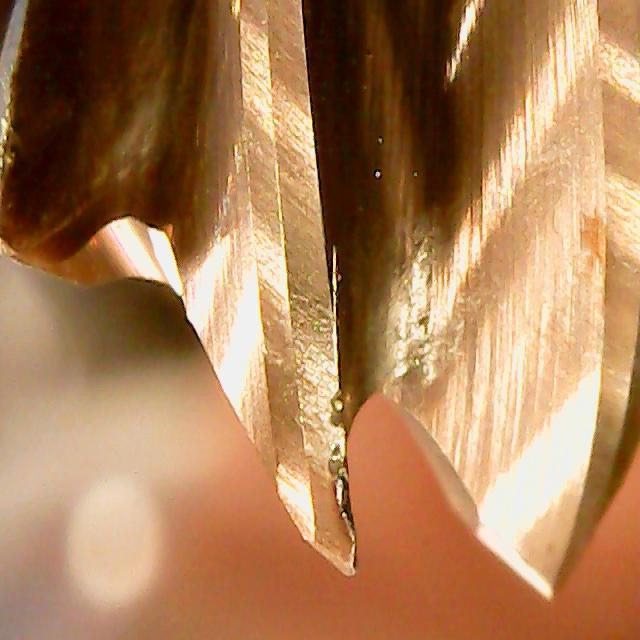Tool-wear-class-1: (237, 220, 365, 584)
